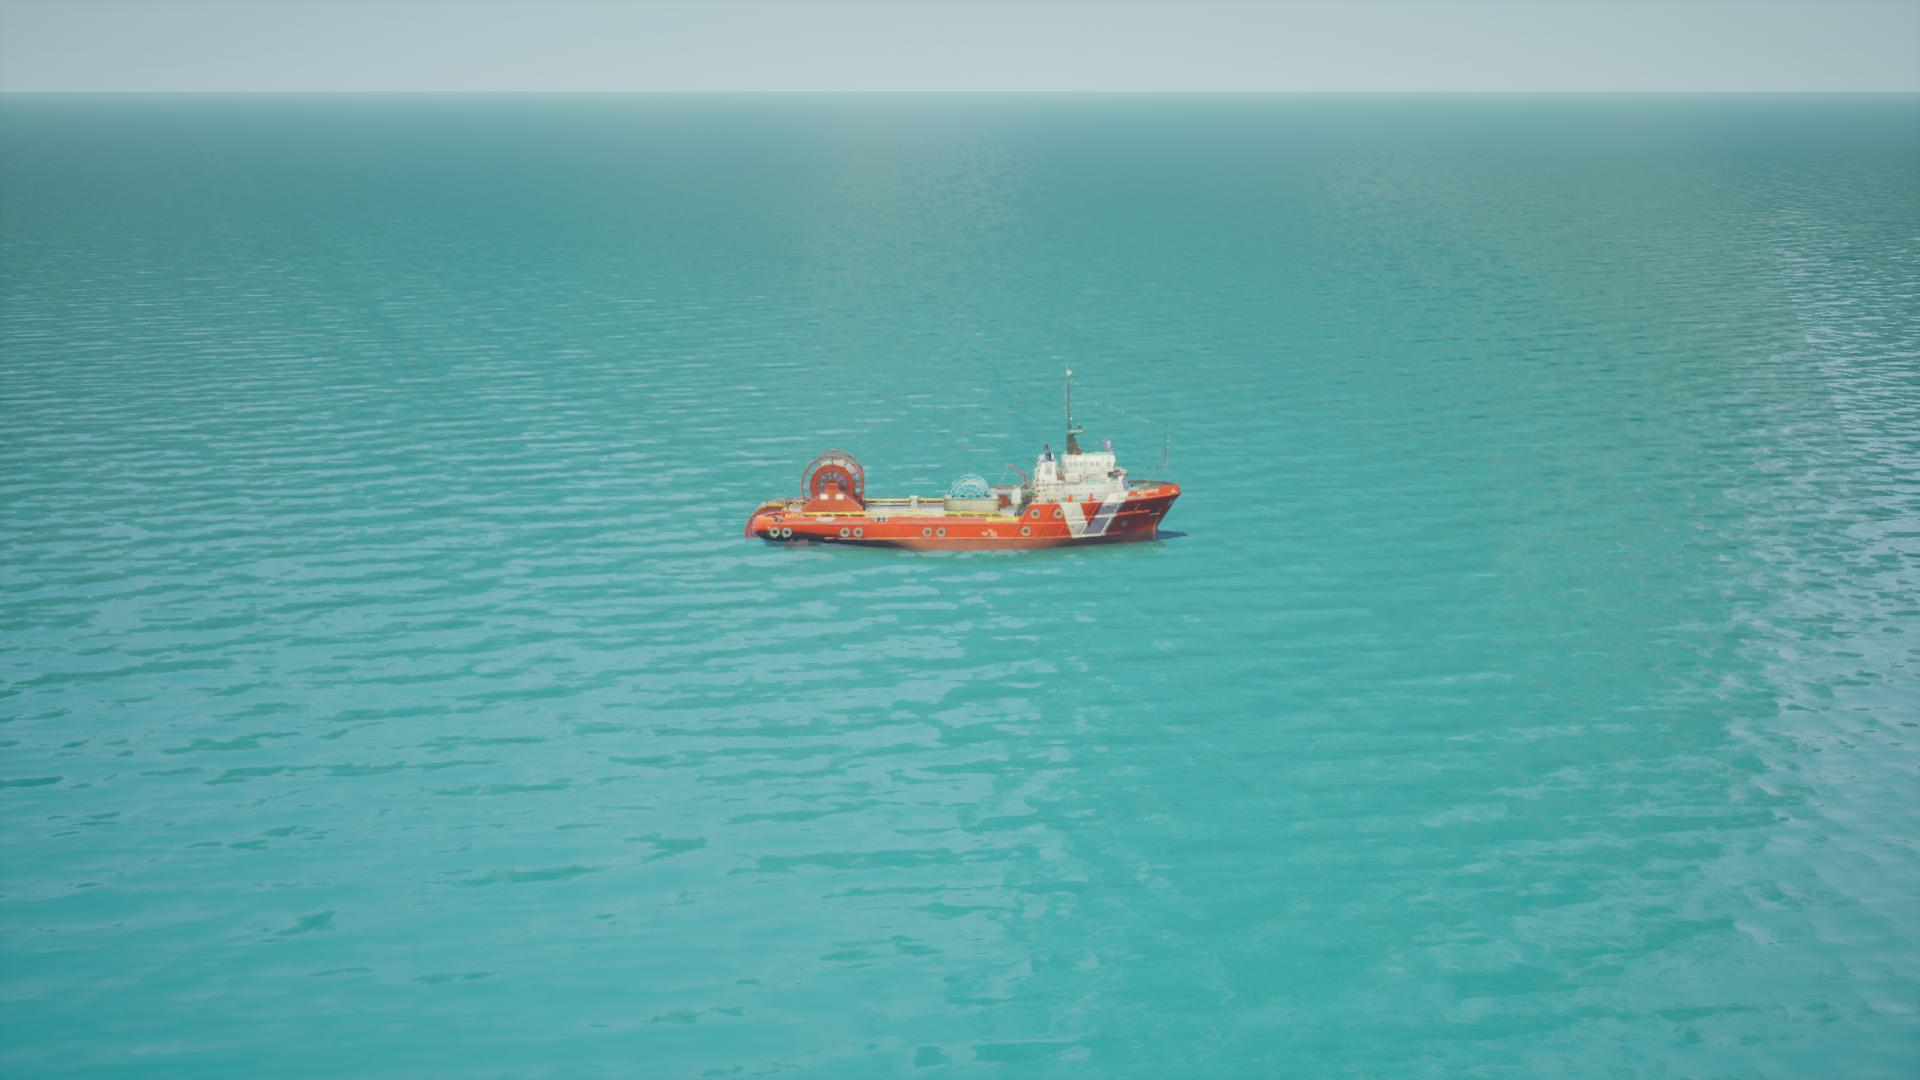Tug Boat: (741, 373, 1189, 558)
